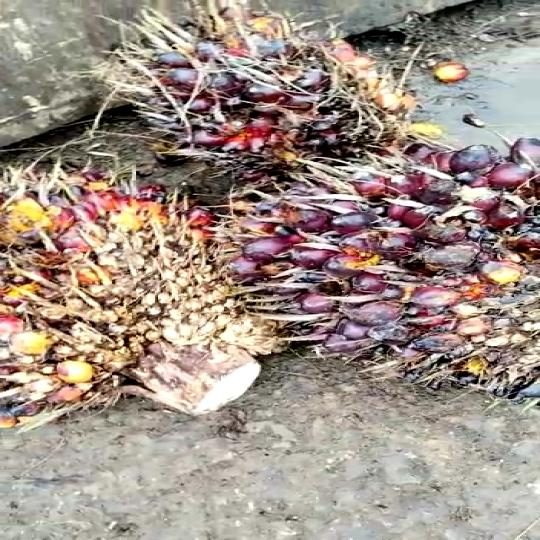masak: (0, 148, 308, 446), (233, 128, 540, 398), (78, 0, 423, 207)
